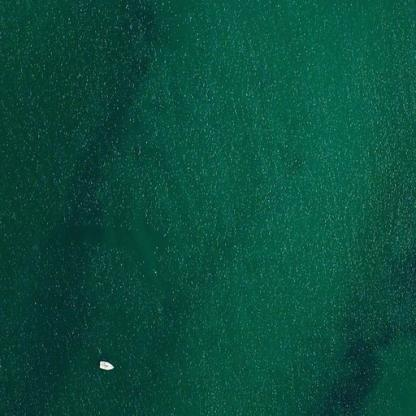ship: (92, 355, 118, 375)
